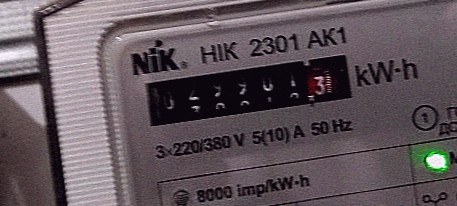0: (259, 68, 276, 94), (159, 88, 178, 111)
1: (283, 65, 299, 90)
2: (184, 82, 202, 103)
3: (312, 72, 328, 96)
9: (234, 73, 251, 97), (209, 77, 224, 100)
screen: (131, 43, 365, 138)
